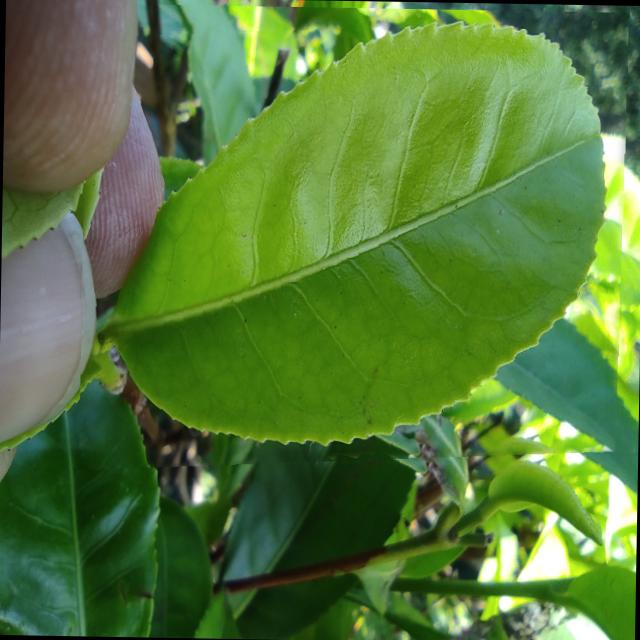Category C(4-7 days): (78, 3, 630, 479)
